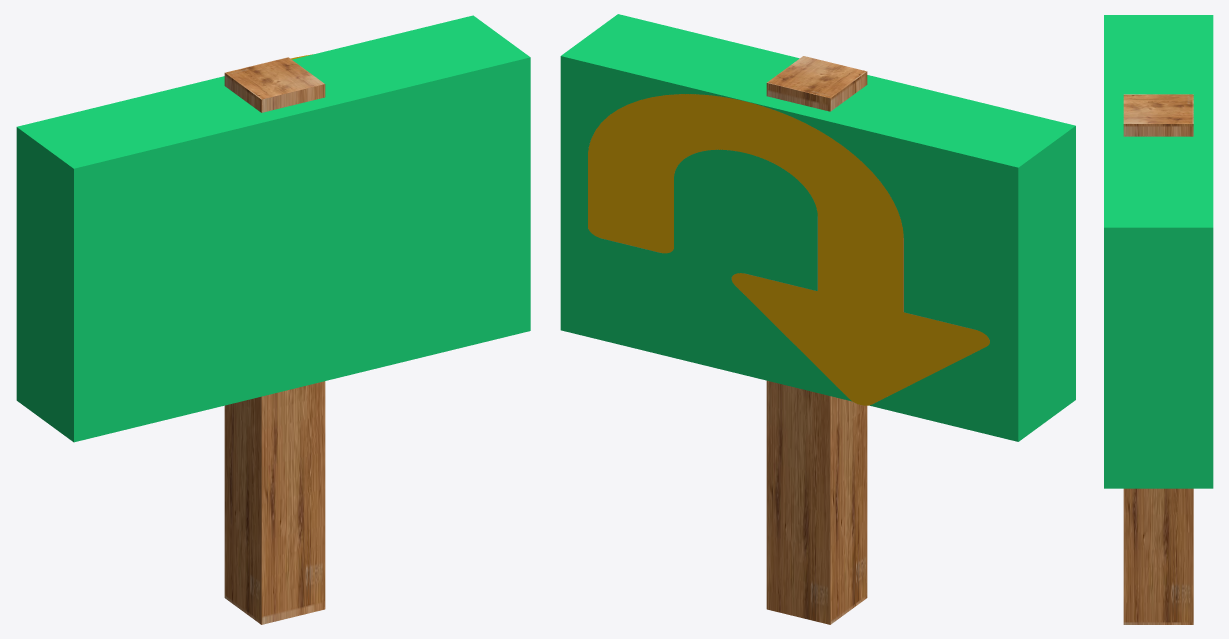
File: goBackMark.fbx
3 views of the same model, side by side, from view 1: azimuth 30°, elevation 25°; view 2: azimuth 150°, elevation 25°; view 3: azimuth 270°, elevation 25° (orthographic). The views are drawn at different scales.
Parts seen in each view (by area): view 1: 立方體, Cube; view 2: 立方體, 平面, Cube; view 3: 立方體, Cube.
Part boxes in pixels (x1=…): 立方體: x1=16, y1=15, x2=530, y2=442; Cube: x1=224, y1=57, x2=325, y2=624; 立方體: x1=560, y1=14, x2=1075, y2=441; 平面: x1=588, y1=94, x2=989, y2=405; Cube: x1=766, y1=56, x2=867, y2=624; 立方體: x1=1104, y1=15, x2=1213, y2=488; Cube: x1=1123, y1=94, x2=1193, y2=624.
Bounding box in the file's own units: 619 × 678 × 136.
3 materials, 2 textured.
